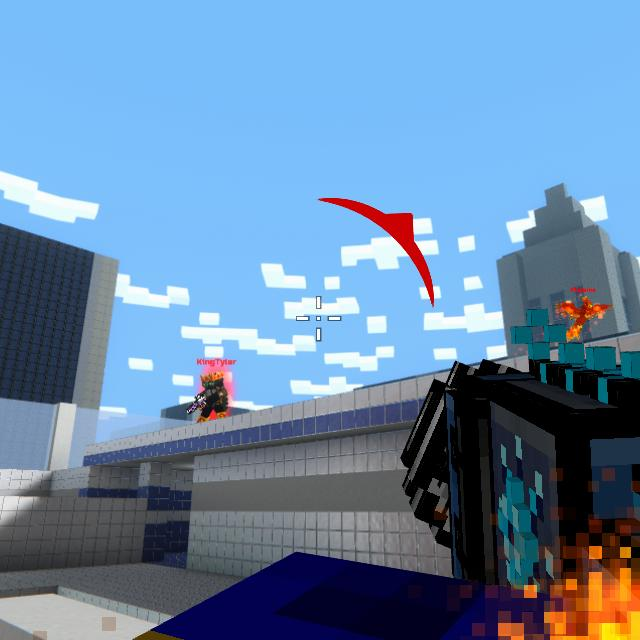Enemy: (195, 371, 229, 420)
